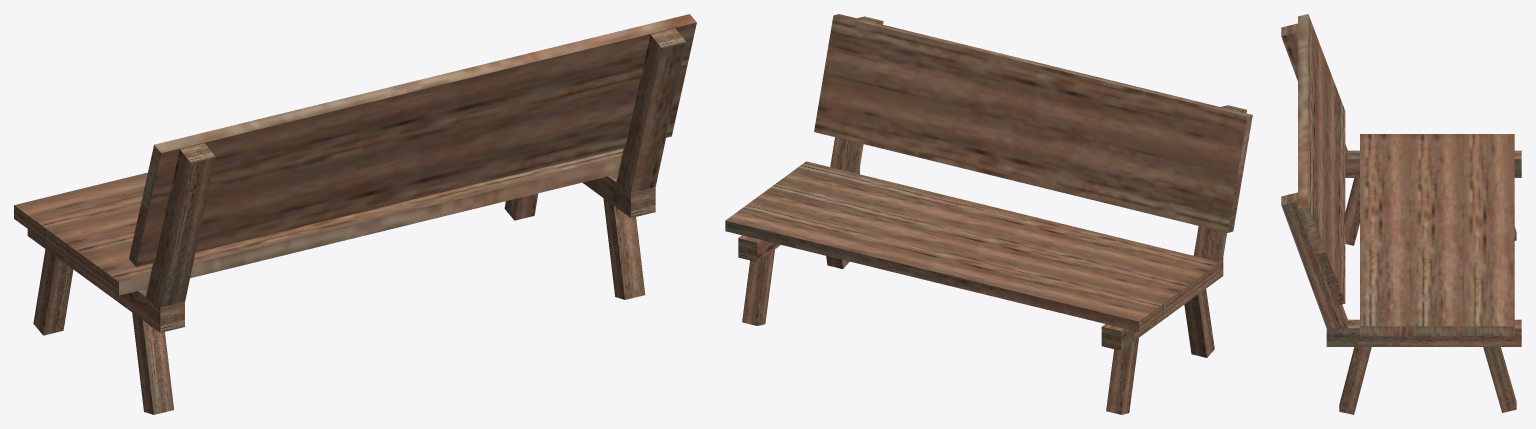
Rendered from Bench.fbx.
3 views of the same model, side by side, from view 1: azimuth 30°, elevation 25°; view 2: azimuth 150°, elevation 25°; view 3: azimuth 270°, elevation 25° (orthographic). The views are drawn at different scales.
Parts seen in each view (by area): view 1: Benchtemplate; view 2: Benchtemplate; view 3: Benchtemplate.
Boxes of the visible parts, x1,y1,x2,y2 form: Benchtemplate: (14,14,696,414); Benchtemplate: (725,14,1252,414); Benchtemplate: (1281,14,1521,414).
Size of the model in its own units: 236 by 124 by 125.
